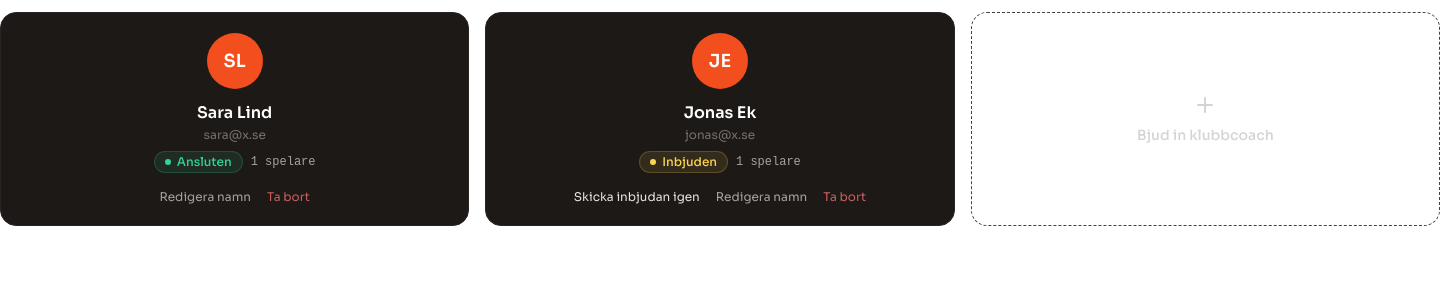
Test case: ClubCoachesTab › offers resend only to invited coaches
The width and height of the screenshot is (1452, 301).
Click the button "Skicka inbjudan igen" at [637, 197], box [574,189,700,205]
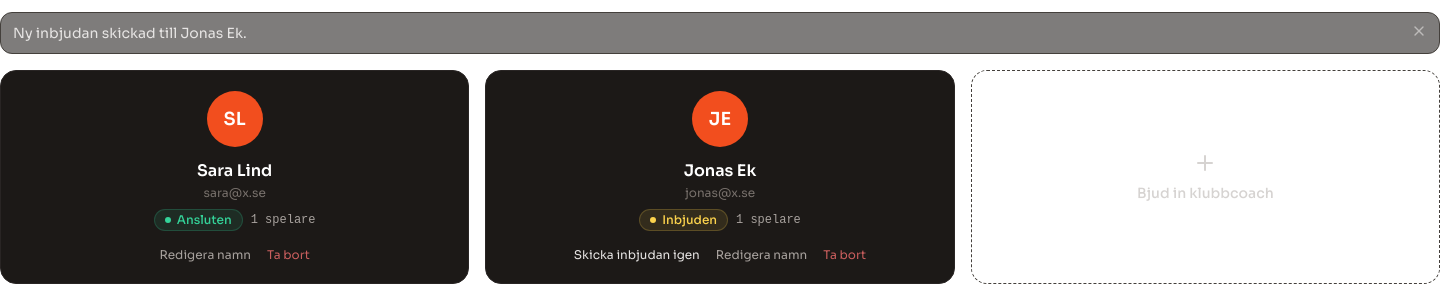
Check: the text "Ny inbjudan skickad till Jonas Ek." is shown, box [0,12,1440,54]
